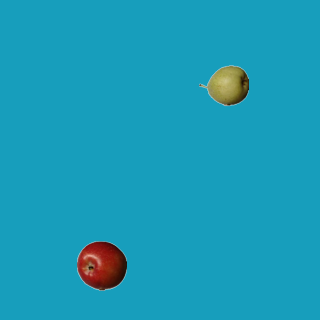Apple Braeburn: (76, 240, 126, 290)
Pear: (198, 60, 248, 110)
